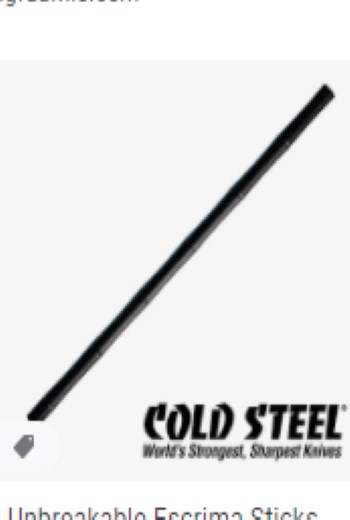baston_e: (55, 83, 315, 422)
baston_v: (16, 404, 60, 437), (310, 74, 340, 110)
